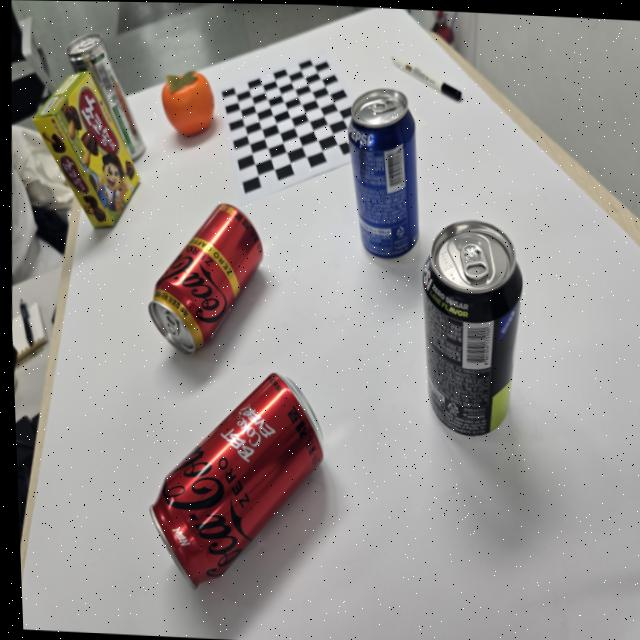can_coke_decaf: (148, 204, 262, 353)
can_coke_zero: (149, 373, 323, 586)
can_pepsi: (347, 88, 418, 258)
can_pepsi_zero: (422, 220, 522, 435)
